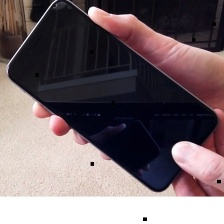phone: (4, 0, 221, 195)
